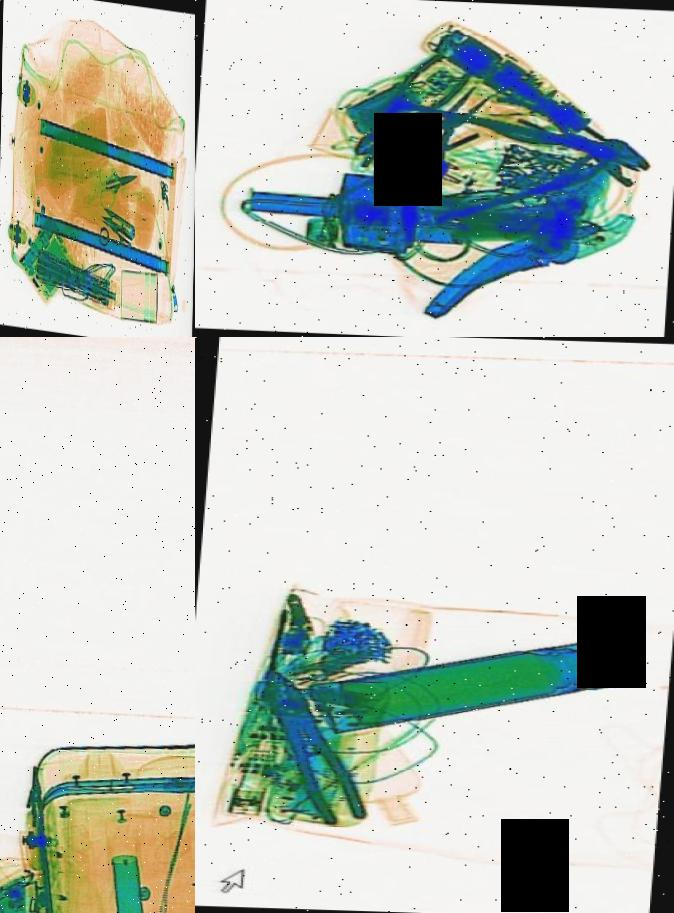Knife: (104, 160, 139, 198), (101, 211, 135, 248)
Pliers: (241, 656, 387, 841), (356, 69, 522, 197), (333, 45, 484, 168), (474, 90, 633, 168)
Scissors: (101, 201, 138, 241)
